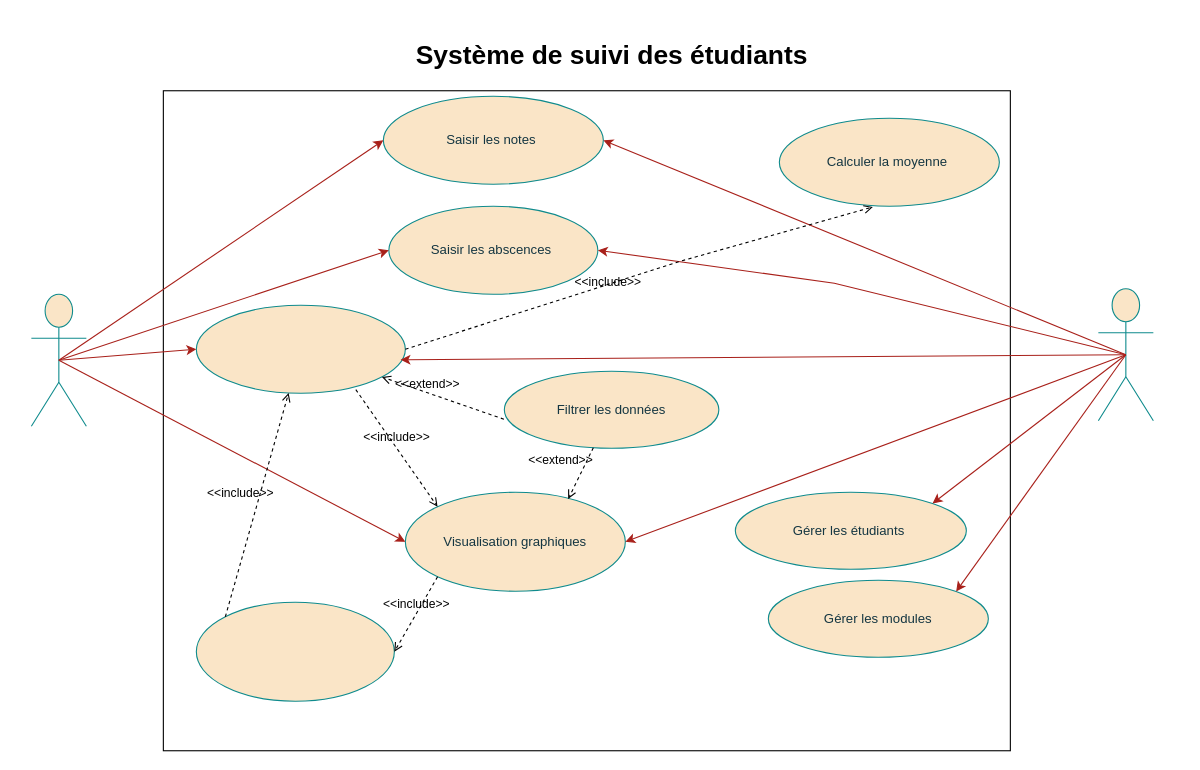
This 1200x770 diagram has some shape labels left out. The centre of each missing label's shape, as x and y in pixels:
Administrateur: (x=1125, y=354)
Consulter les statistiques globales: (x=300, y=348)
Identifier les etudiants en difficulté: (x=294, y=651)
Professeur: (x=58, y=359)
